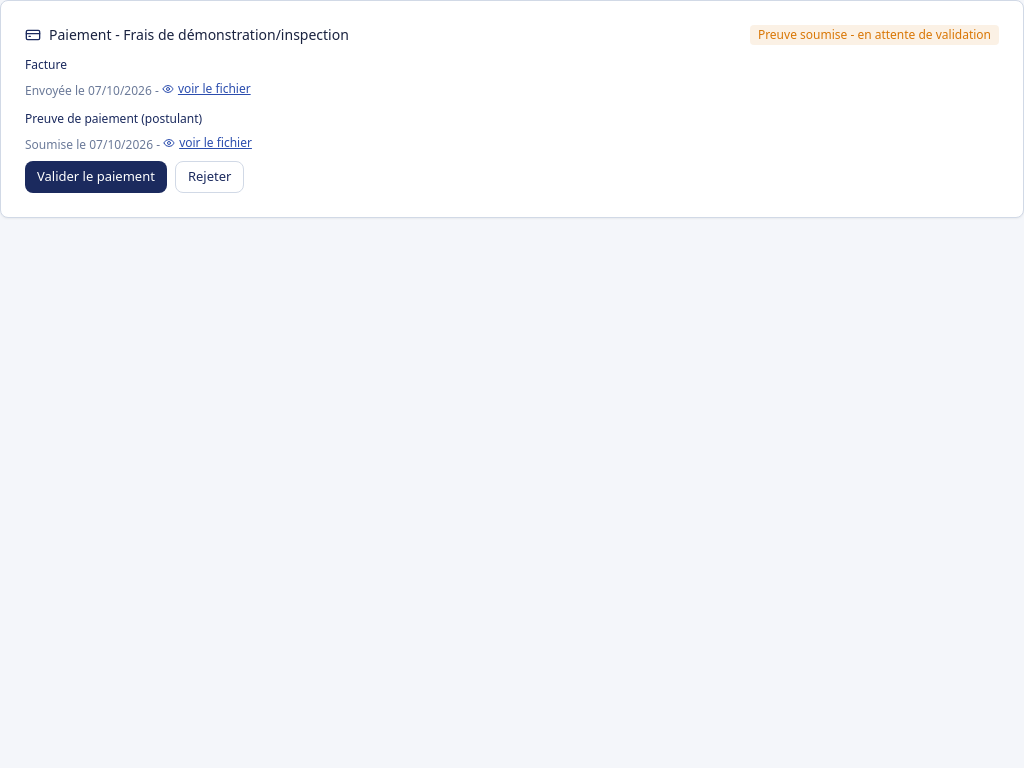
Test: M6 payment card - final rejection of the dossier › shows the exact reason the applicant will read
The image size is (1024, 768).
Click the button "Rejeter" at (210, 177), box [175, 161, 244, 193]
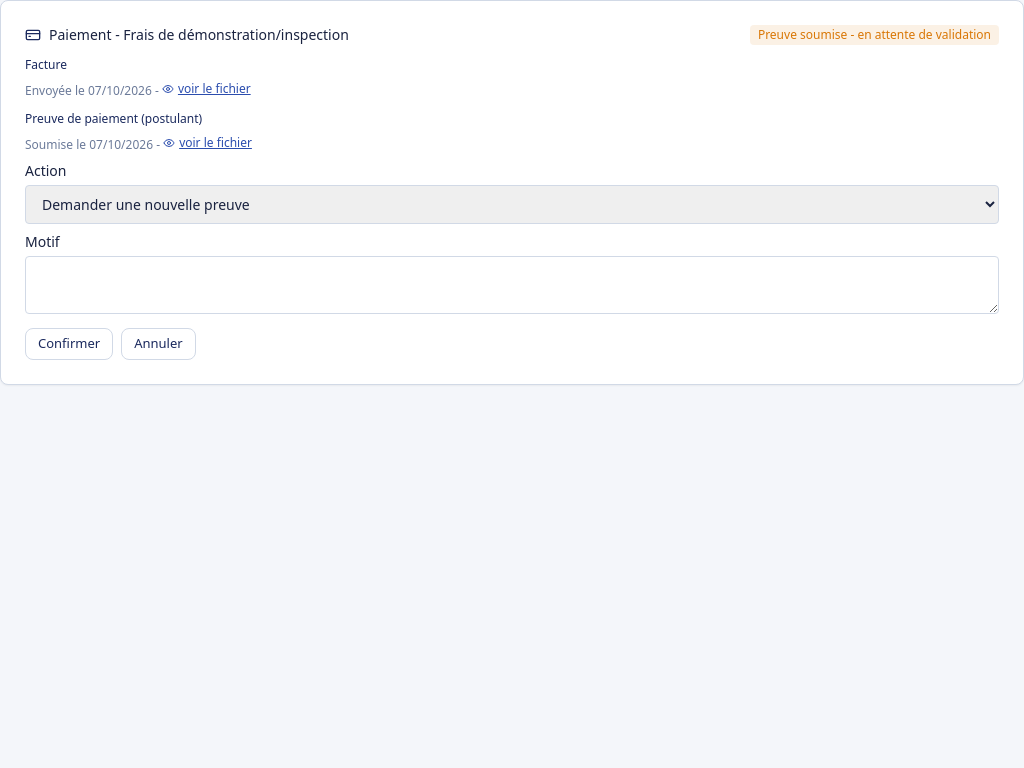
Select "Rejeter le dossier (annulation définitive)" in the dropdown labelled "Action" at (512, 204), box [25, 185, 999, 224]
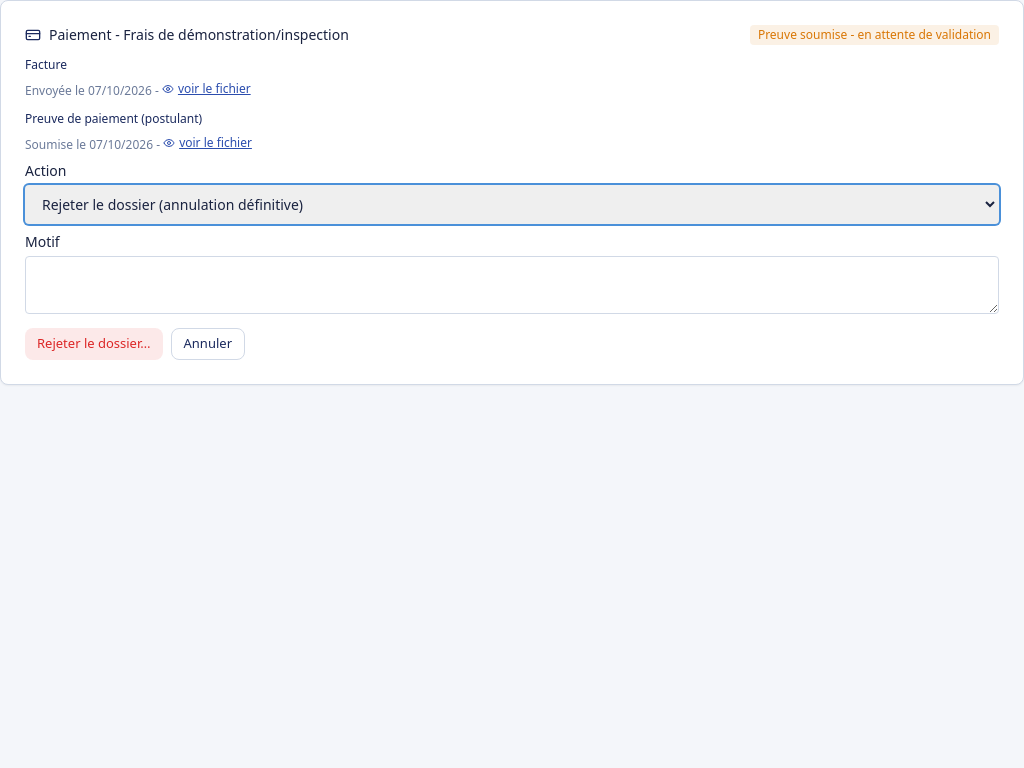
Type "Quittance falsifiée : la référence bancaire n'existe pas." into the text box labelled "Motif" at (512, 285), box [25, 256, 999, 314]
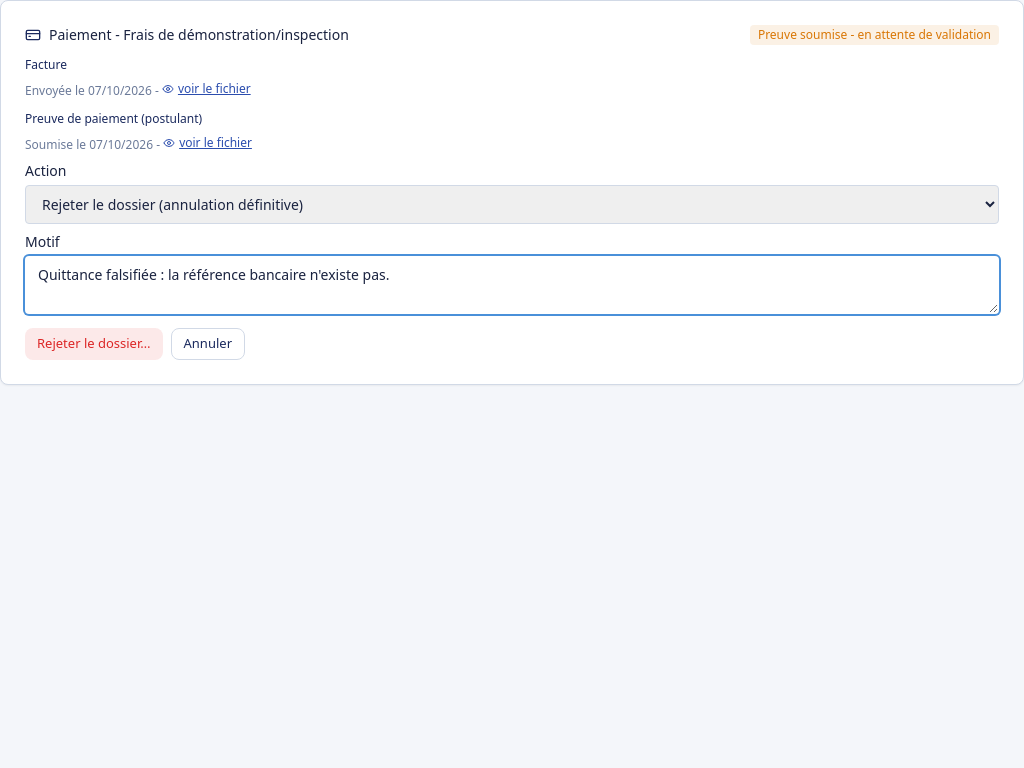
Click the button "Rejeter le dossier…" at (94, 344), box [25, 328, 162, 360]
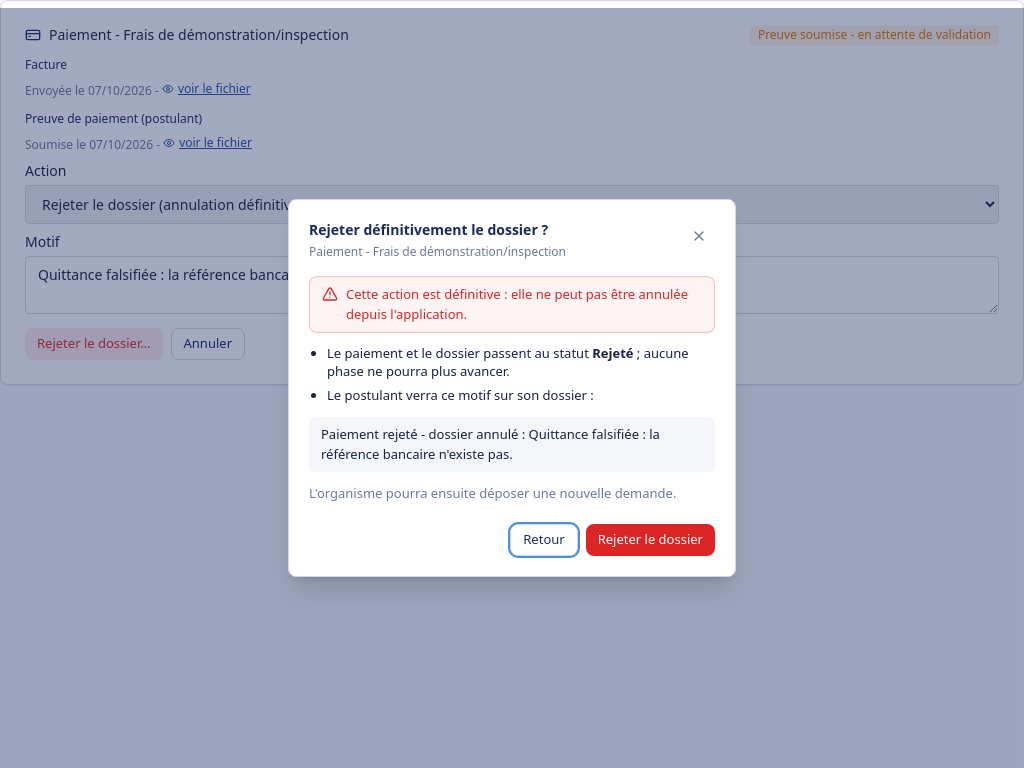
Expected: the text "ne peut pas être annulée" is shown, [346, 285, 688, 323]
